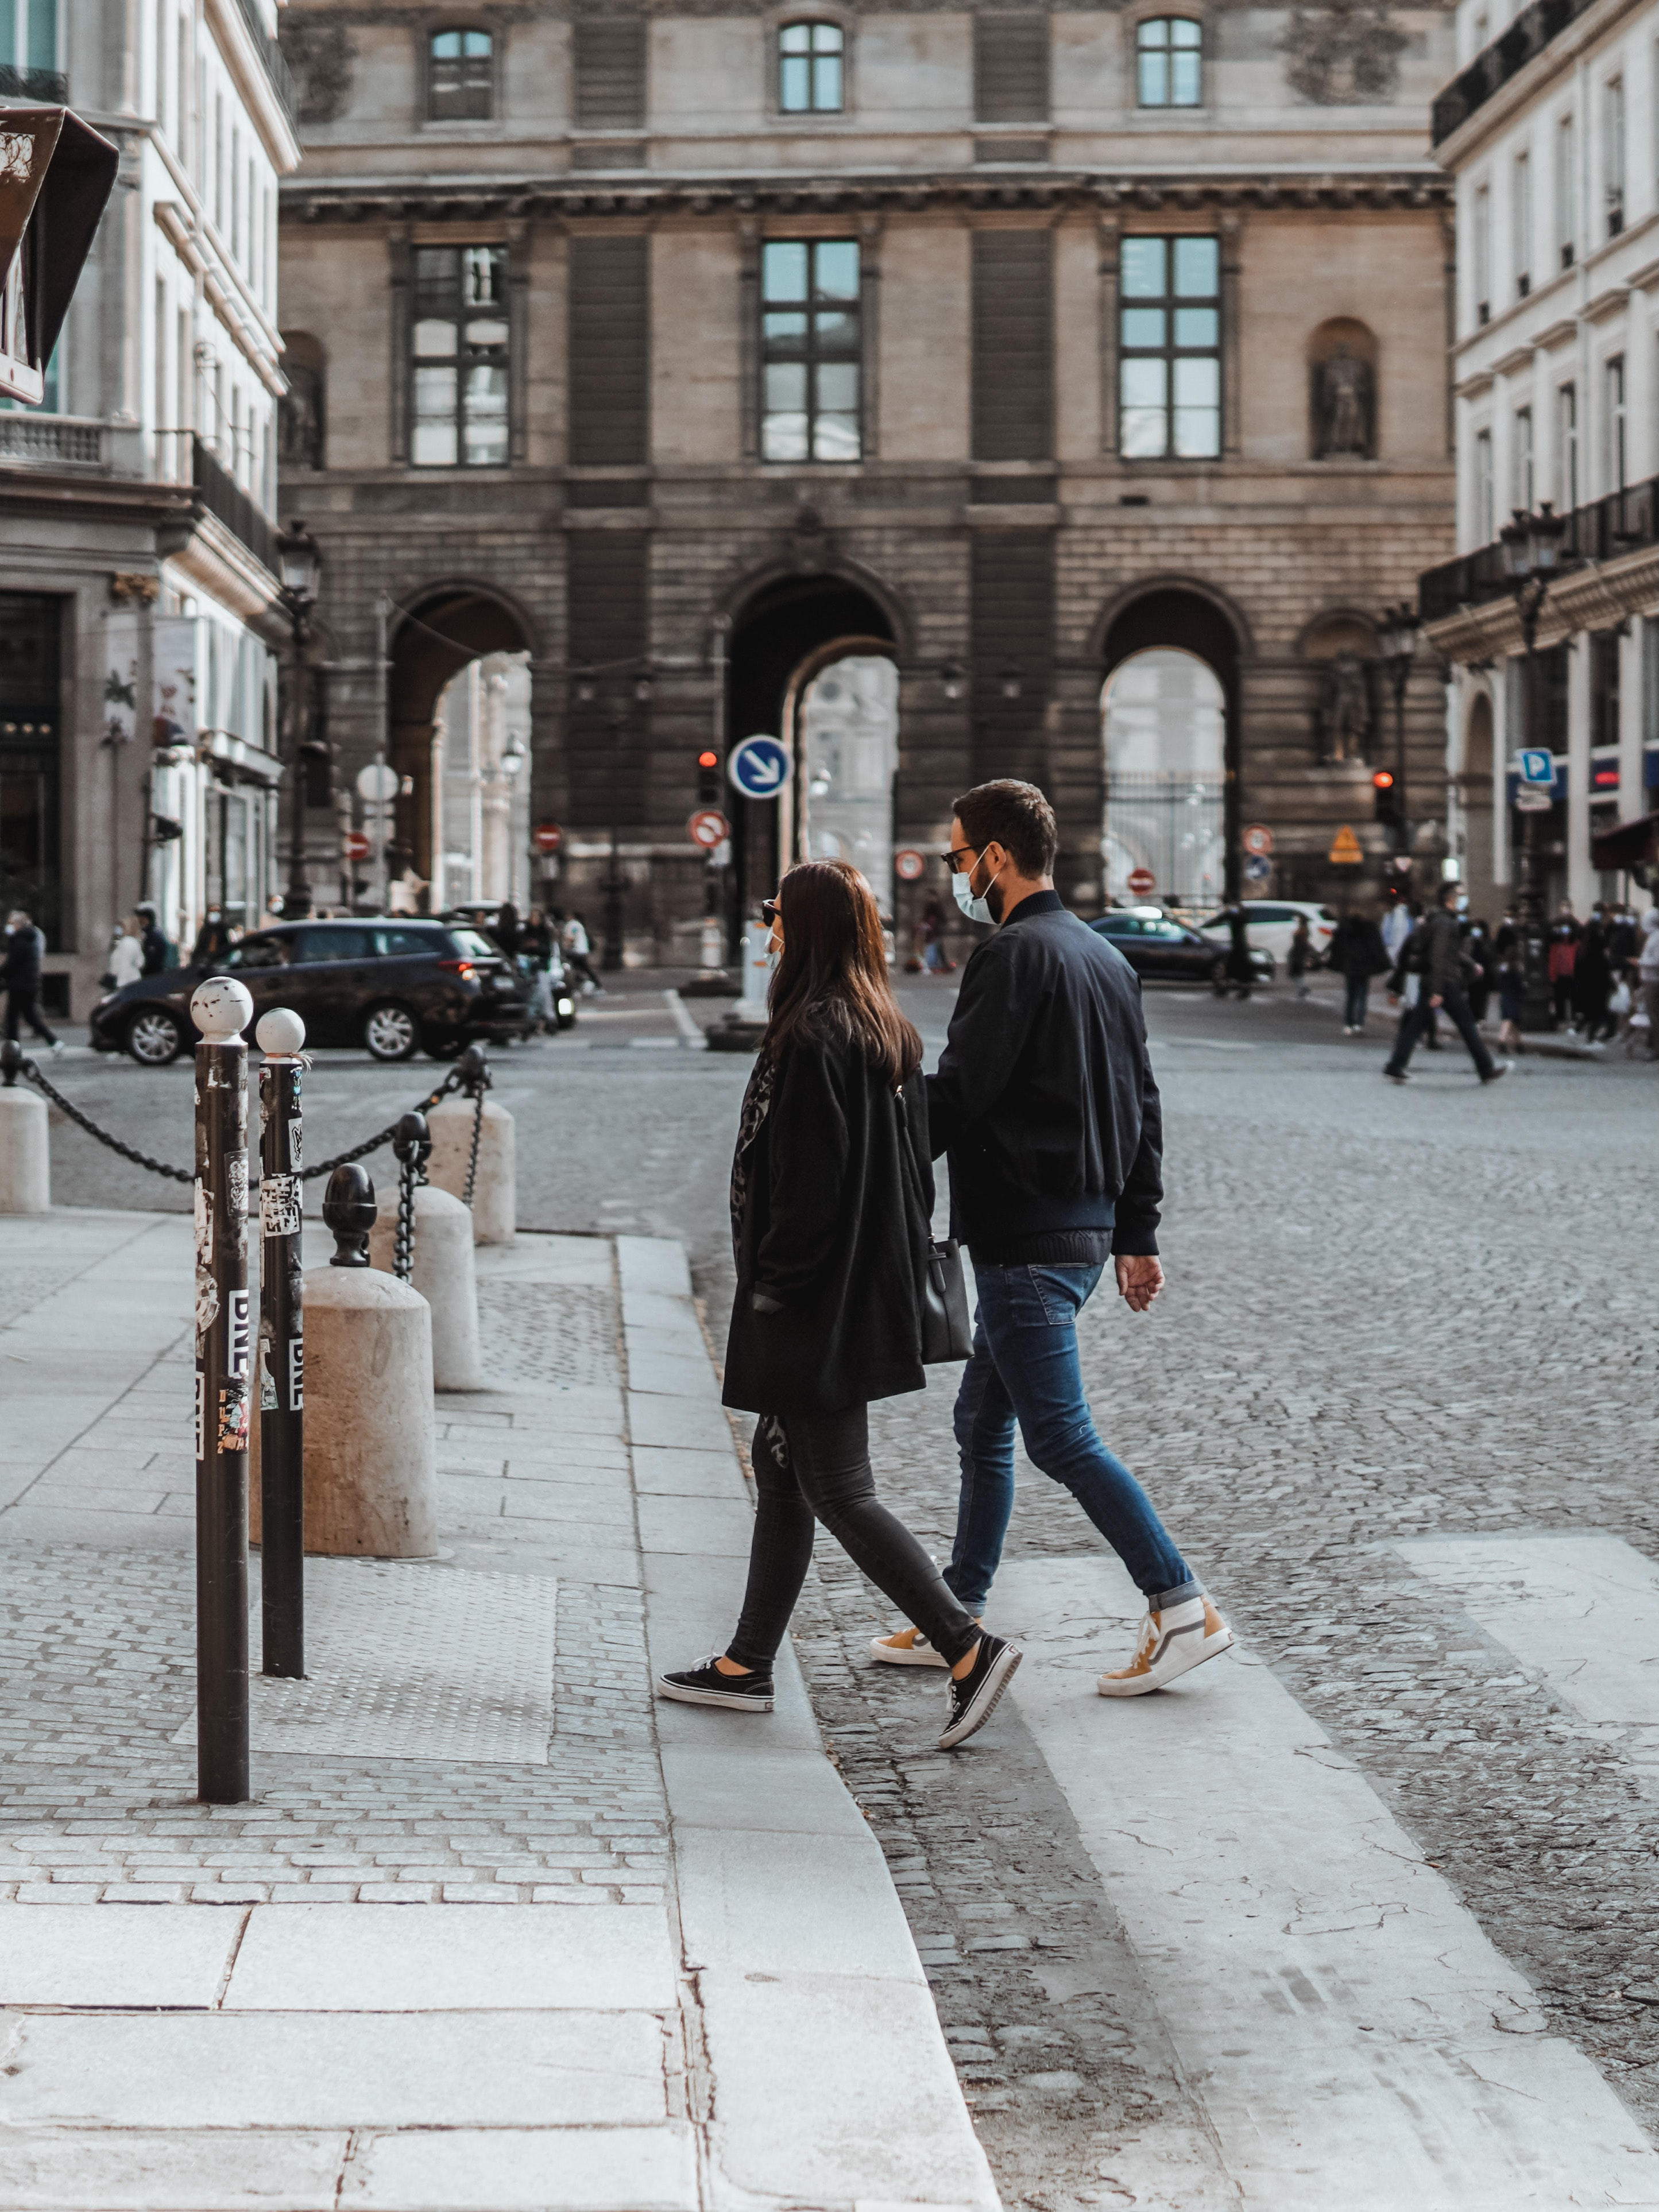person: (651, 874, 1022, 1747), (902, 780, 1230, 1690)
